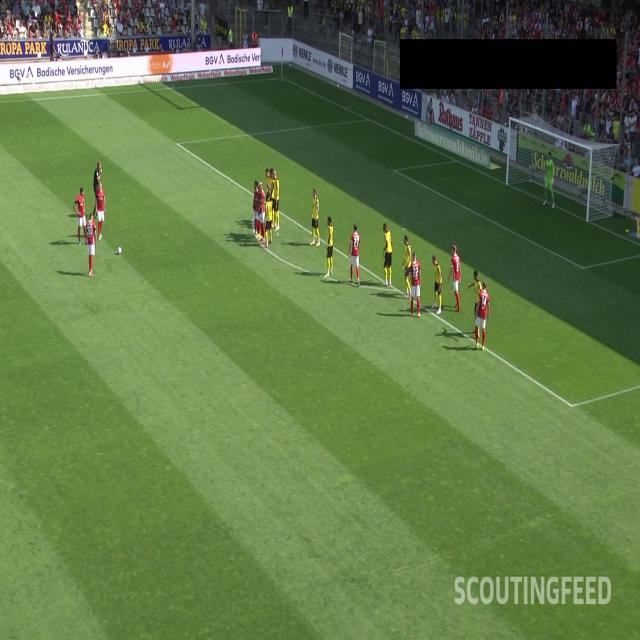ball: (116, 244, 123, 257)
player: (474, 271, 491, 350), (447, 240, 463, 315), (72, 184, 90, 247), (467, 263, 482, 337), (408, 250, 423, 319), (322, 215, 336, 280), (542, 147, 556, 211), (379, 221, 392, 288), (430, 252, 444, 314), (85, 212, 98, 278), (348, 222, 361, 288), (94, 181, 108, 242), (402, 232, 414, 299), (310, 186, 321, 248), (250, 177, 260, 240), (272, 166, 281, 235), (264, 194, 274, 246), (258, 180, 266, 244), (255, 180, 262, 239), (265, 162, 270, 218), (270, 163, 274, 232)
referee: (92, 158, 102, 220)
